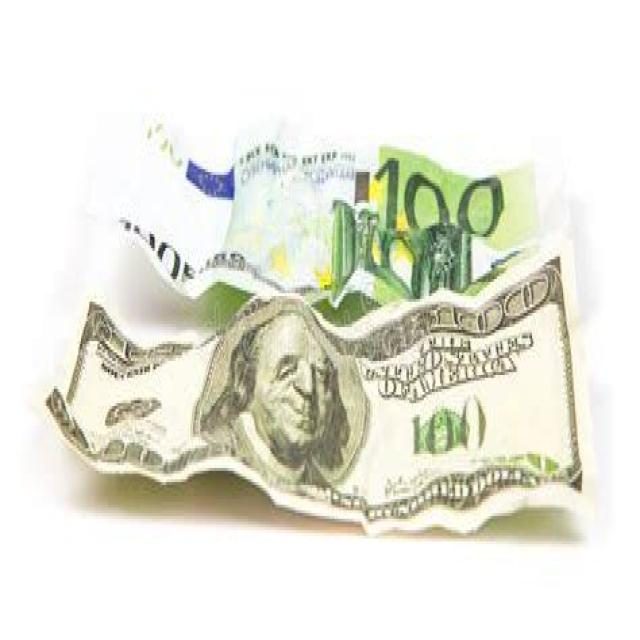banknote: (38, 226, 592, 546), (121, 115, 546, 322), (364, 149, 518, 247), (428, 265, 566, 334), (401, 392, 493, 466), (120, 217, 184, 277)
